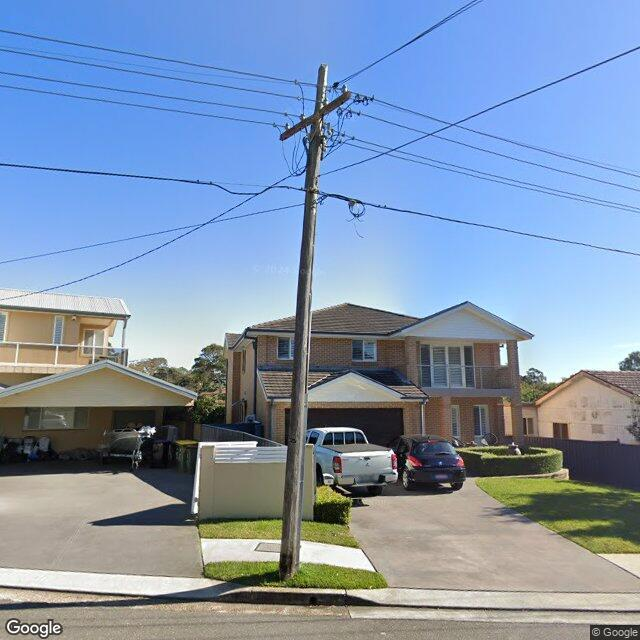crossarm: (277, 89, 353, 143)
timber-pole: (279, 64, 329, 578)
